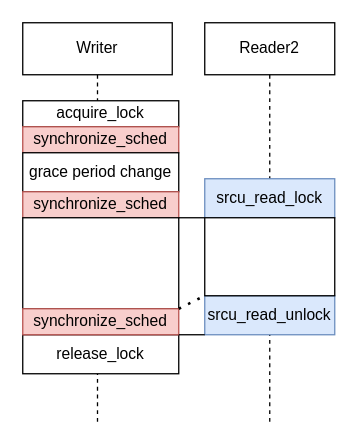
This 358x448 diagram has some shape labels left out. The shapes that lost their labels are listed below. From the top down, each one's centre as x and y in pixels, then its label:
At (100,262): "wait for readers".
At (269,256): "Read Critical Section".
